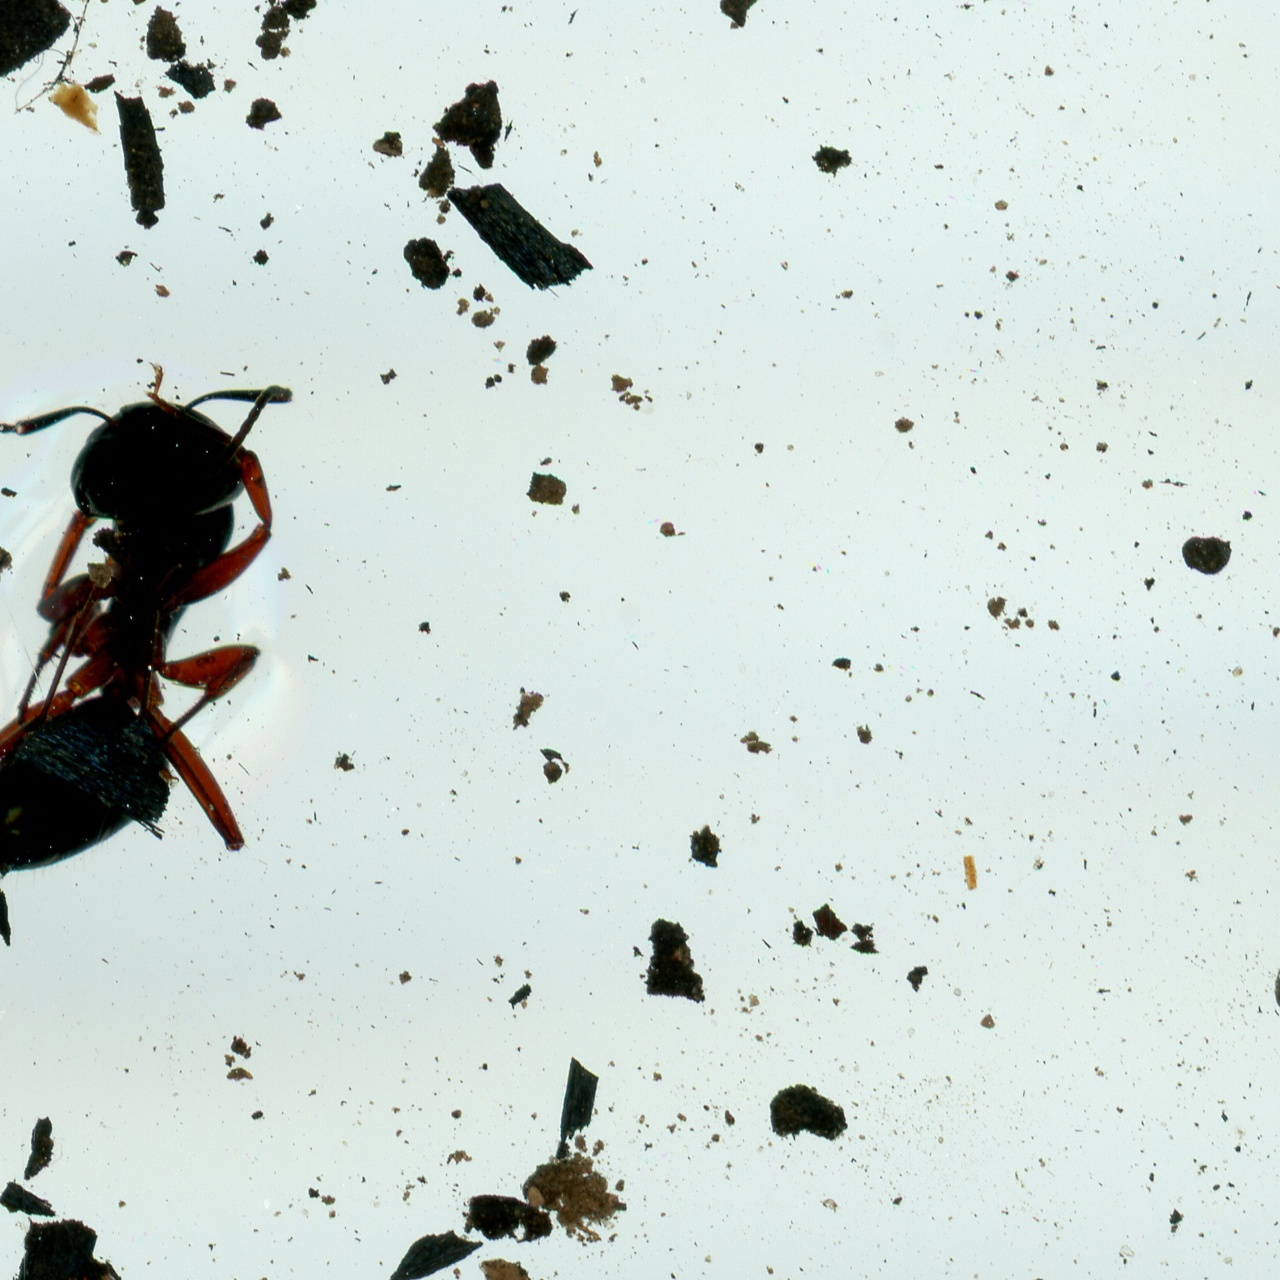arthropod: (0, 359, 297, 899)
